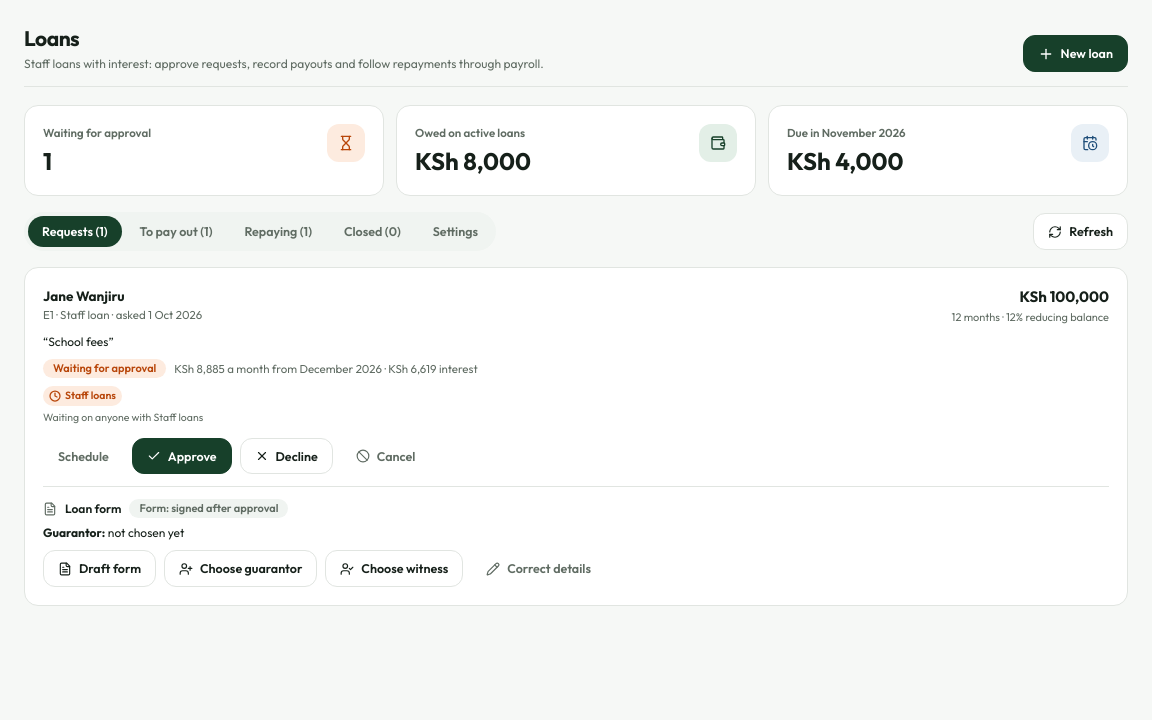
the loans page › HR attaches the paper-signed form of a loan already paid out
The width and height of the screenshot is (1152, 720).
Expected: the list item with test id "loan-r1" is shown, 24,267 -> 1128,606
Click the button "Repaying (1)" at (278, 232), box 230,216 -> 326,247
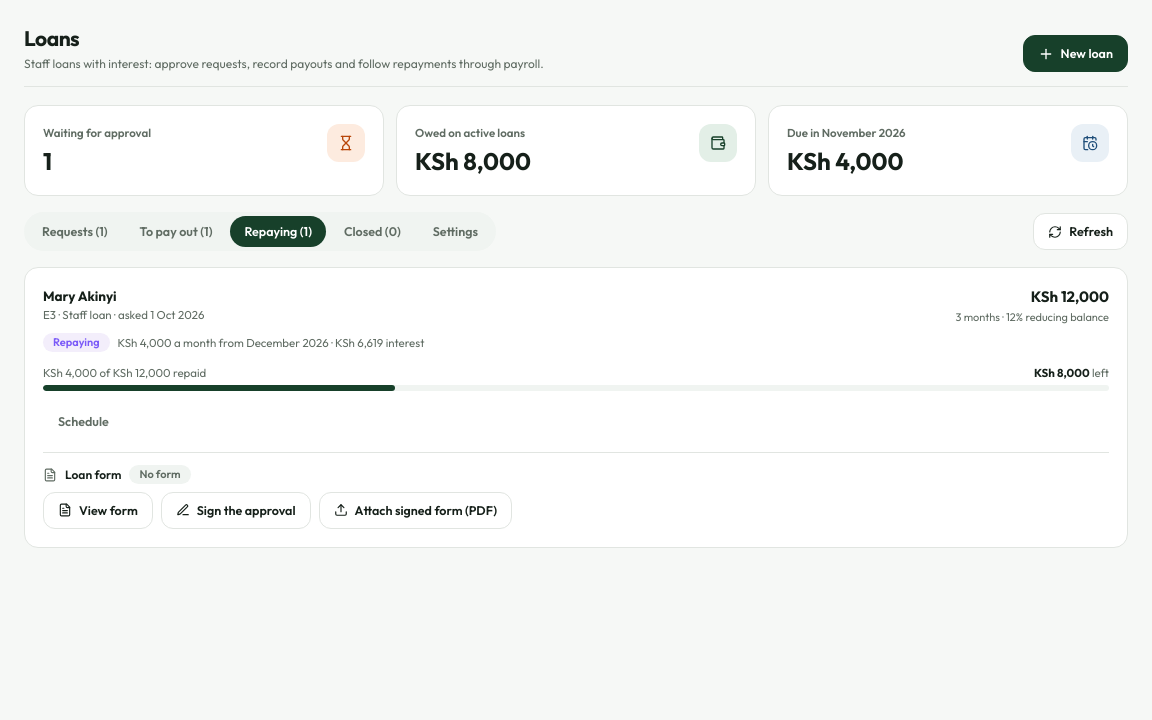
Expected: the button "Attach signed form (PDF)" is shown, 319,492 -> 512,529
